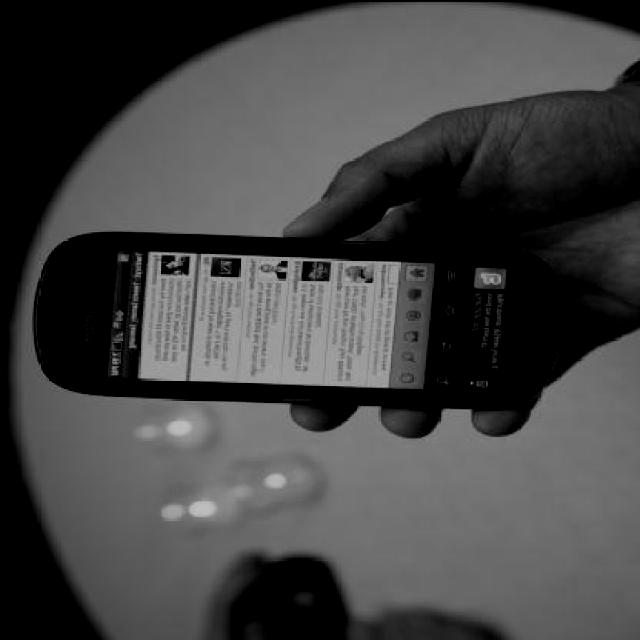fake: (20, 226, 571, 417)
